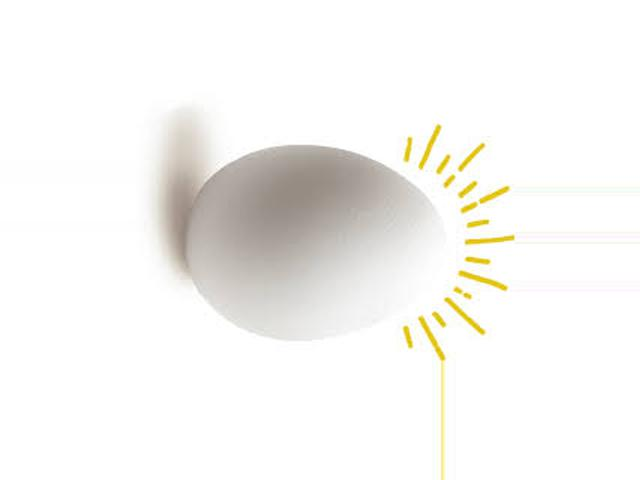egg: (184, 145, 442, 343)
